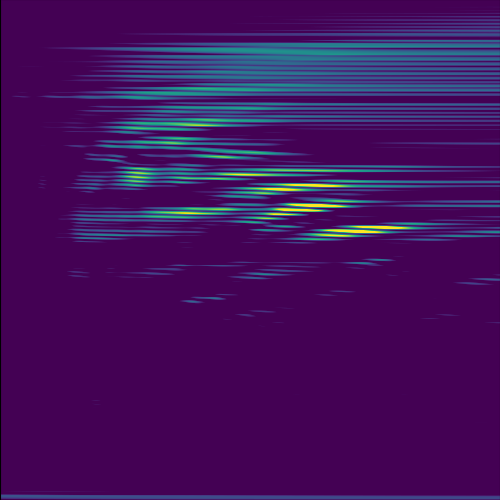semblance: (244, 198, 369, 226), (290, 219, 421, 244), (248, 177, 352, 199)
